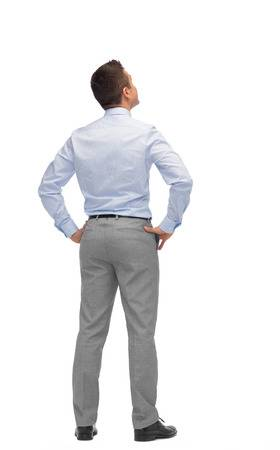F_dress pants: (74, 216, 162, 417)
F_shirt: (35, 111, 217, 244)
